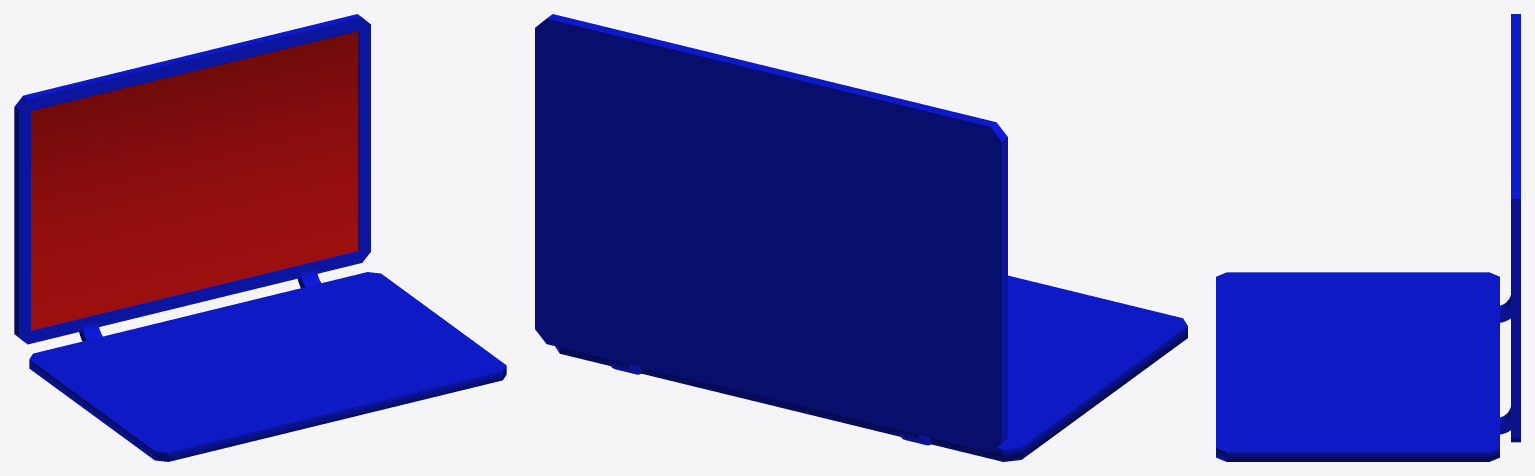
Rendered from laptop.FBX.
3 views of the same model, side by side, from view 1: azimuth 30°, elevation 25°; view 2: azimuth 150°, elevation 25°; view 3: azimuth 270°, elevation 25° (orthographic). The views are drawn at different scales.
Parts seen in each view (by area): view 1: laptop; view 2: laptop; view 3: laptop.
Boxes of the visible parts, box(x1,y1,x2,y2) form: laptop: box(14, 14, 506, 461); laptop: box(535, 14, 1187, 461); laptop: box(1216, 14, 1520, 461).
Size of the model in its own units: 30 by 21.78 by 21.47.
